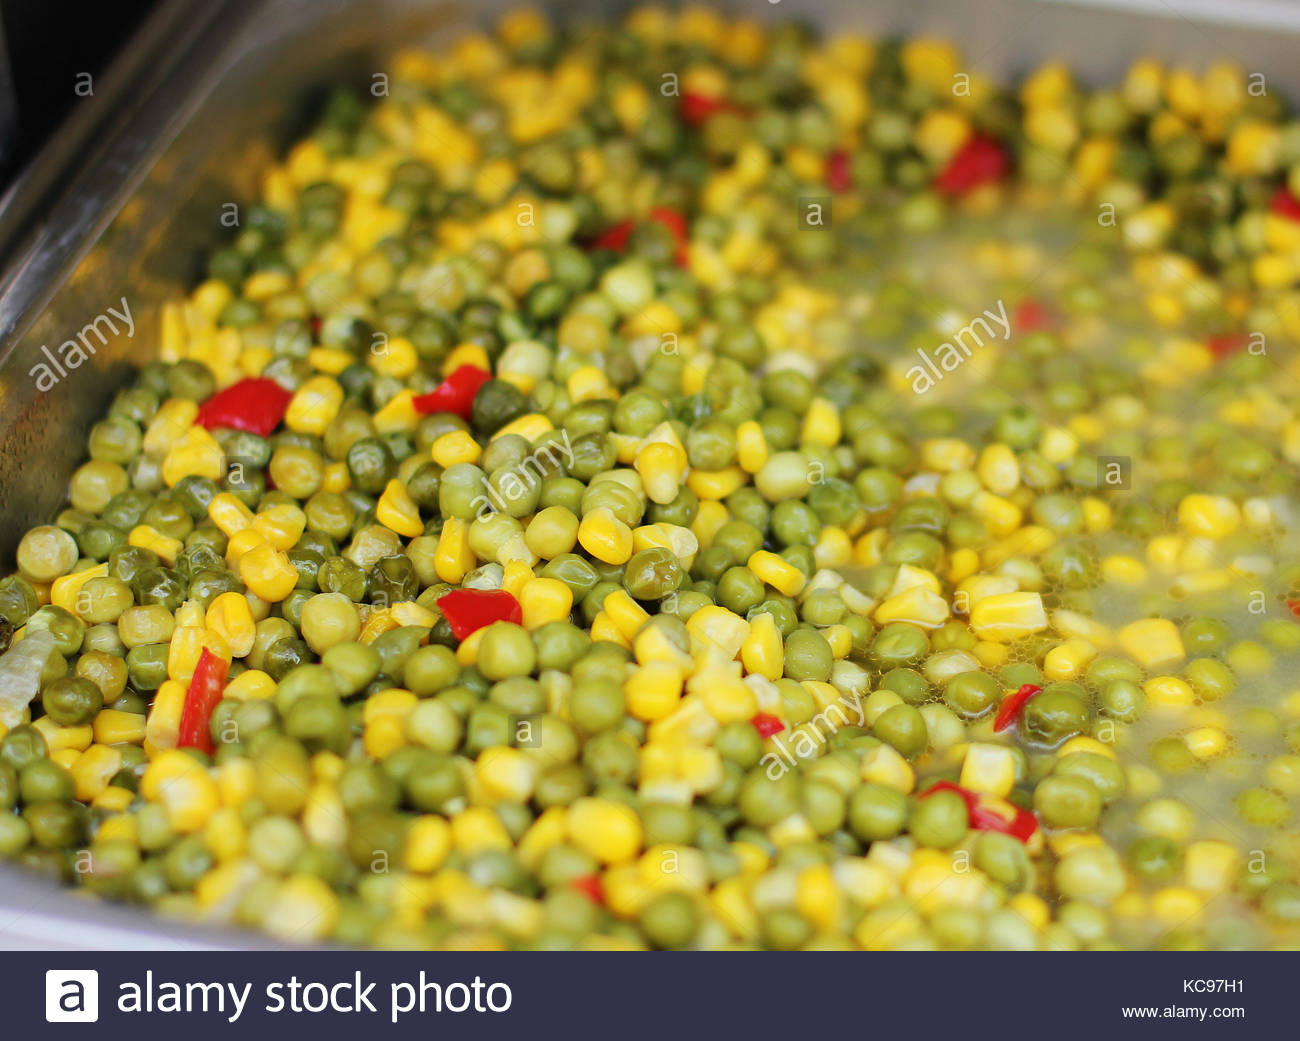boiled peas: (49, 1, 1109, 851)
